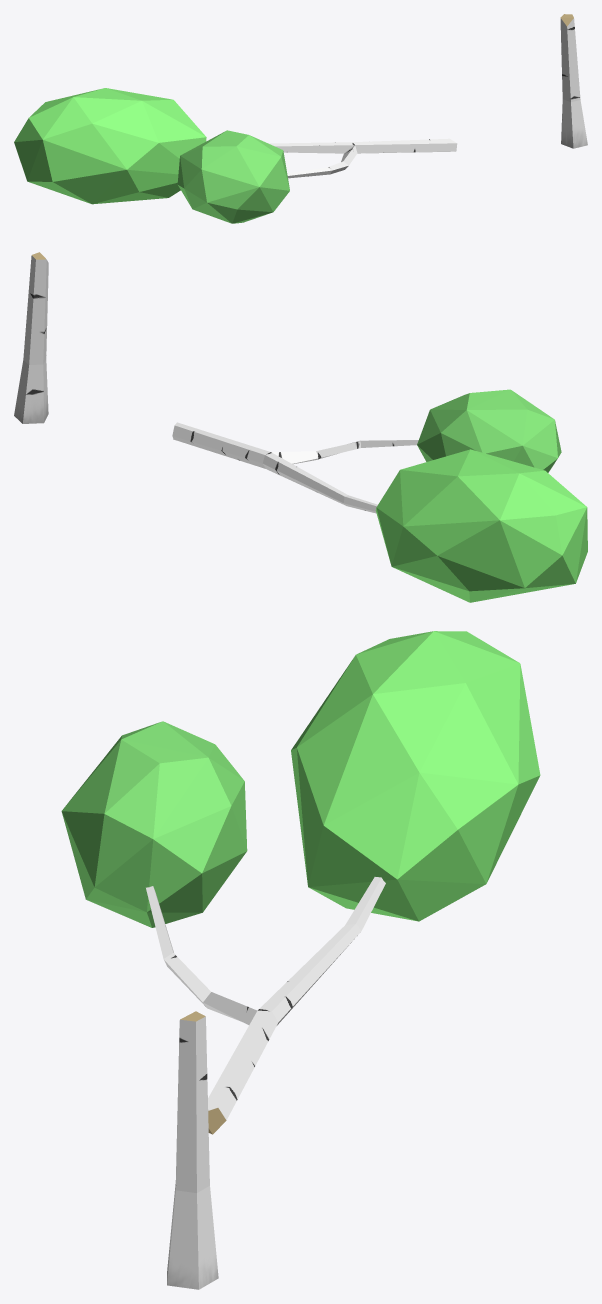
The model's file is Birch_Tree_crk_m_02_LOD.fbx.
The picture shows the model from 3 angles, top to bottom: view 1: azimuth 30°, elevation 25°; view 2: azimuth 150°, elevation 25°; view 3: azimuth 270°, elevation 25°; orthographic projection. The views are drawn at different scales.
Parts seen in each view (by area): view 1: Birch_Tree_crk_m_02_LOD0; view 2: Birch_Tree_crk_m_02_LOD0; view 3: Birch_Tree_crk_m_02_LOD0.
Part boxes in pixels (x1,y1,x2,y2): Birch_Tree_crk_m_02_LOD0: [14, 14, 587, 223]; Birch_Tree_crk_m_02_LOD0: [14, 252, 587, 602]; Birch_Tree_crk_m_02_LOD0: [61, 631, 540, 1289].
Size of what is drawn, in the model's own units: 956 by 234 by 398.
